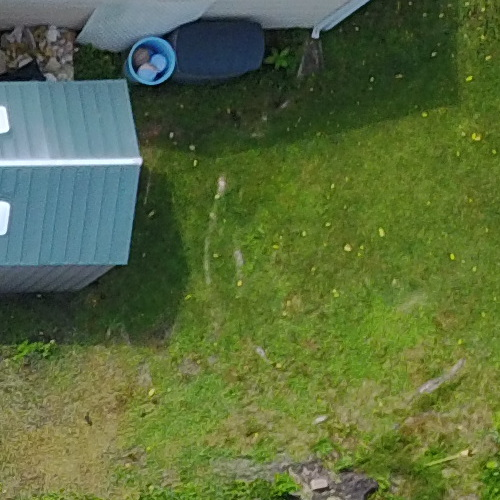trash bin: (105, 33, 183, 96)
